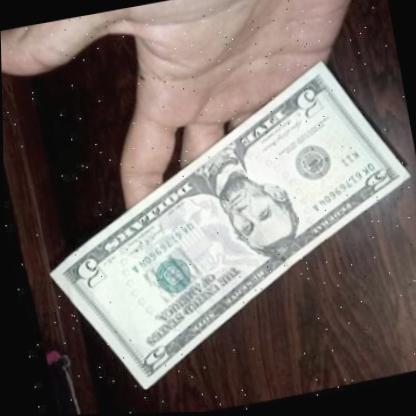dollar_front: (16, 40, 416, 416)
